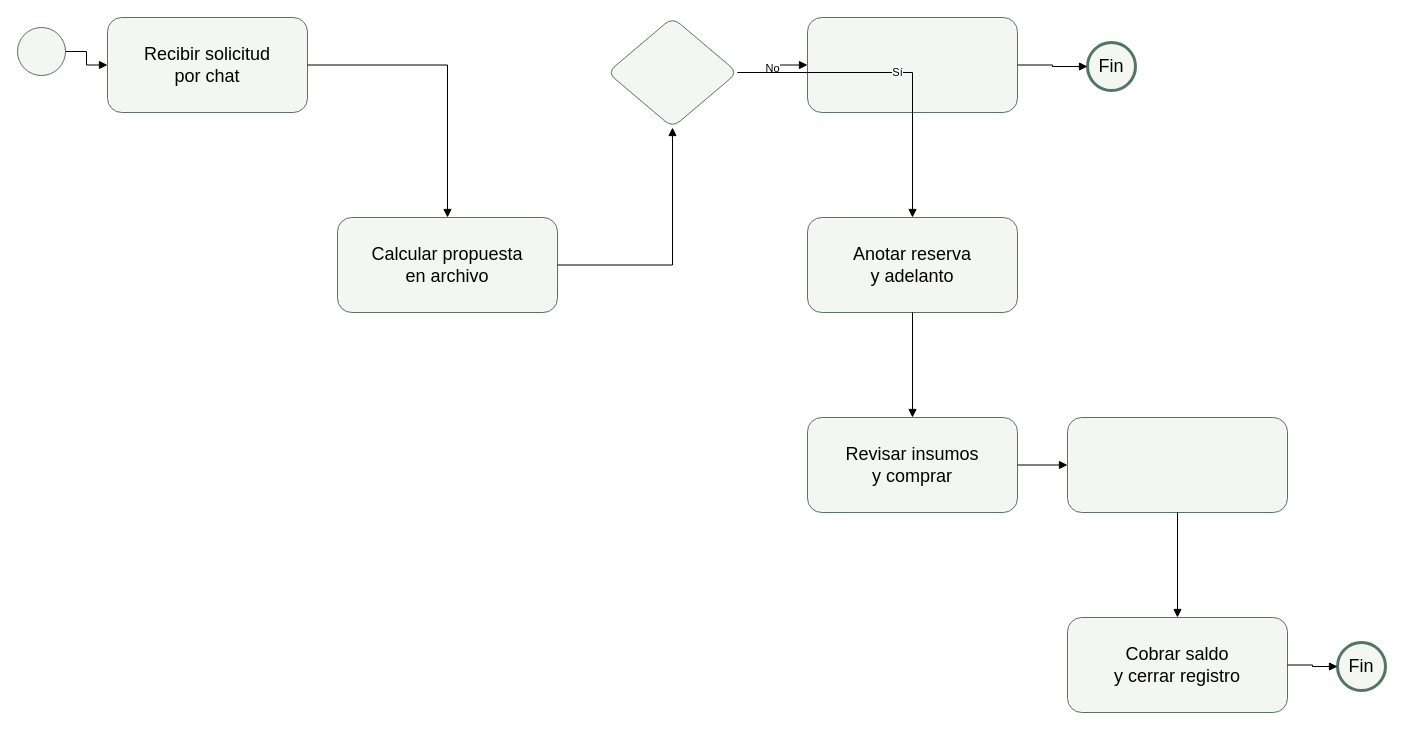
Some shapes in this 1404 by 730 pixel diagram are drawn without their labels. The centre of each missing label's shape, as x and y in pixels:
Archivar solicitud: the point at 912,64
Cliente acepta: the point at 672,72
Preparar y servir: the point at 1177,464
